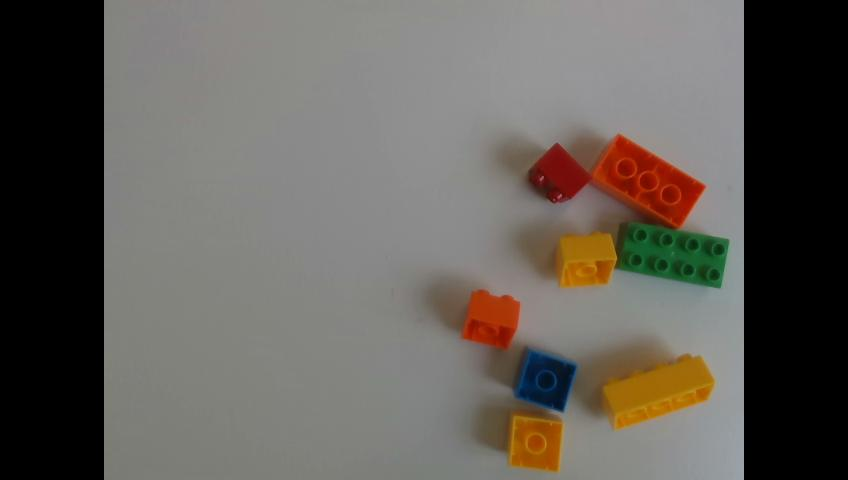2x2_blue: (513, 345, 577, 414)
2x2_orange: (461, 289, 520, 351)
2x2_red: (529, 143, 593, 203)
2x2_yellow: (507, 408, 564, 474), (552, 233, 619, 287)
4x2_green: (615, 221, 729, 289)
4x2_orange: (588, 134, 707, 229)
4x2_yellow: (601, 354, 715, 431)
